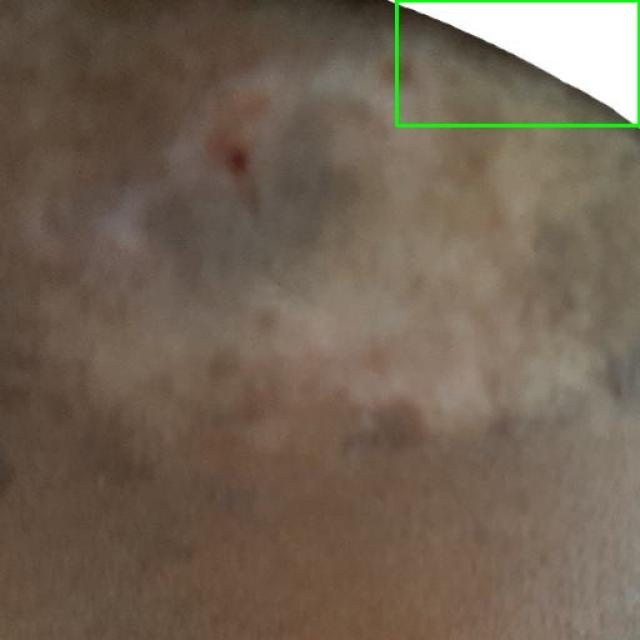Contact Dermatitis: (396, 0, 639, 125)
